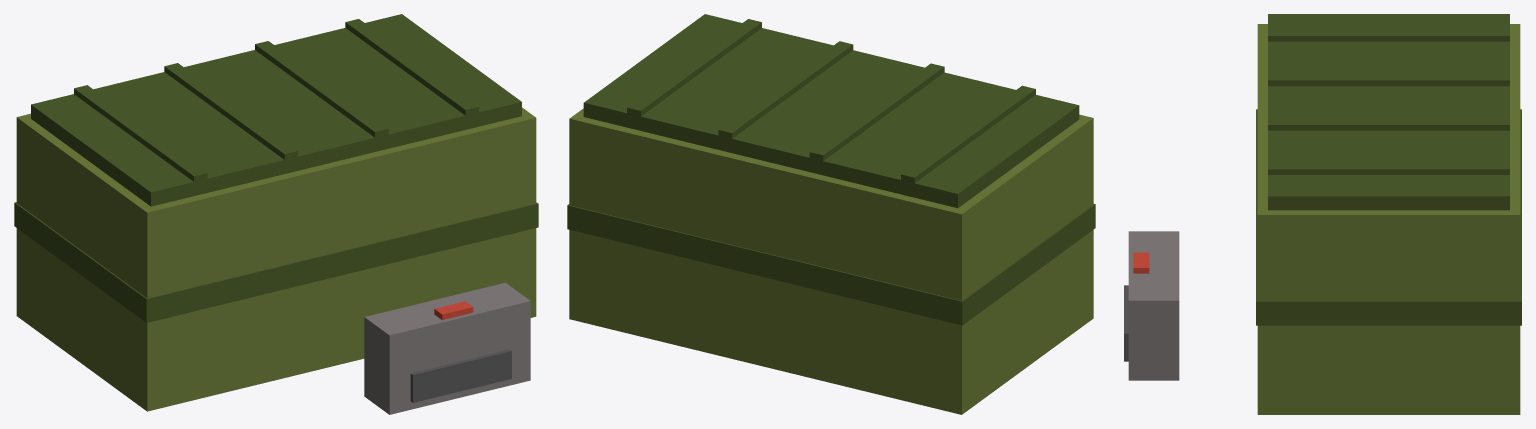
Rendered from ce_ammo2_railr_sabot_c.obj.
3 views of the same model, side by side, from view 1: azimuth 30°, elevation 25°; view 2: azimuth 150°, elevation 25°; view 3: azimuth 270°, elevation 25° (orthographic).
Parts seen in each view (by area): view 1: ce_ammo2_railr_sabot_c_0, ce_ammo2_railr_sabot_c_1, ce_ammo2_railr_sabot_c_7, ce_ammo2_railr_sabot_c_2, ce_ammo2_railr_sabot_c_9, ce_ammo2_railr_sabot_c_3, ce_ammo2_railr_sabot_c_4, ce_ammo2_railr_sabot_c_5, ce_ammo2_railr_sabot_c_6, ce_ammo2_railr_sabot_c_8; view 2: ce_ammo2_railr_sabot_c_0, ce_ammo2_railr_sabot_c_1, ce_ammo2_railr_sabot_c_2, ce_ammo2_railr_sabot_c_4, ce_ammo2_railr_sabot_c_5, ce_ammo2_railr_sabot_c_3, ce_ammo2_railr_sabot_c_6; view 3: ce_ammo2_railr_sabot_c_0, ce_ammo2_railr_sabot_c_1, ce_ammo2_railr_sabot_c_7, ce_ammo2_railr_sabot_c_2, ce_ammo2_railr_sabot_c_4, ce_ammo2_railr_sabot_c_3, ce_ammo2_railr_sabot_c_5, ce_ammo2_railr_sabot_c_6, ce_ammo2_railr_sabot_c_9, ce_ammo2_railr_sabot_c_8.
Boxes of the visible parts, x1=… form: ce_ammo2_railr_sabot_c_0: x1=16, y1=107, x2=536, y2=411; ce_ammo2_railr_sabot_c_1: x1=31, y1=14, x2=521, y2=206; ce_ammo2_railr_sabot_c_7: x1=364, y1=282, x2=530, y2=414; ce_ammo2_railr_sabot_c_2: x1=14, y1=202, x2=538, y2=322; ce_ammo2_railr_sabot_c_9: x1=410, y1=349, x2=511, y2=402; ce_ammo2_railr_sabot_c_3: x1=74, y1=85, x2=207, y2=181; ce_ammo2_railr_sabot_c_4: x1=164, y1=63, x2=297, y2=159; ce_ammo2_railr_sabot_c_5: x1=255, y1=41, x2=388, y2=137; ce_ammo2_railr_sabot_c_6: x1=345, y1=19, x2=478, y2=115; ce_ammo2_railr_sabot_c_8: x1=434, y1=301, x2=473, y2=320; ce_ammo2_railr_sabot_c_0: x1=569, y1=108, x2=1093, y2=414; ce_ammo2_railr_sabot_c_1: x1=583, y1=14, x2=1079, y2=208; ce_ammo2_railr_sabot_c_2: x1=567, y1=204, x2=1095, y2=325; ce_ammo2_railr_sabot_c_4: x1=809, y1=63, x2=944, y2=160; ce_ammo2_railr_sabot_c_5: x1=718, y1=41, x2=853, y2=138; ce_ammo2_railr_sabot_c_3: x1=901, y1=85, x2=1035, y2=183; ce_ammo2_railr_sabot_c_6: x1=627, y1=19, x2=761, y2=116; ce_ammo2_railr_sabot_c_0: x1=1257, y1=24, x2=1520, y2=414; ce_ammo2_railr_sabot_c_1: x1=1268, y1=14, x2=1509, y2=210; ce_ammo2_railr_sabot_c_7: x1=1128, y1=231, x2=1179, y2=380; ce_ammo2_railr_sabot_c_2: x1=1256, y1=109, x2=1521, y2=325; ce_ammo2_railr_sabot_c_4: x1=1268, y1=73, x2=1509, y2=86; ce_ammo2_railr_sabot_c_3: x1=1268, y1=29, x2=1509, y2=41; ce_ammo2_railr_sabot_c_5: x1=1268, y1=118, x2=1509, y2=130; ce_ammo2_railr_sabot_c_6: x1=1268, y1=162, x2=1509, y2=174; ce_ammo2_railr_sabot_c_9: x1=1124, y1=285, x2=1128, y2=361; ce_ammo2_railr_sabot_c_8: x1=1133, y1=252, x2=1149, y2=273.
Bounding box in the file's own units: 0.866 × 0.462 × 0.757.
